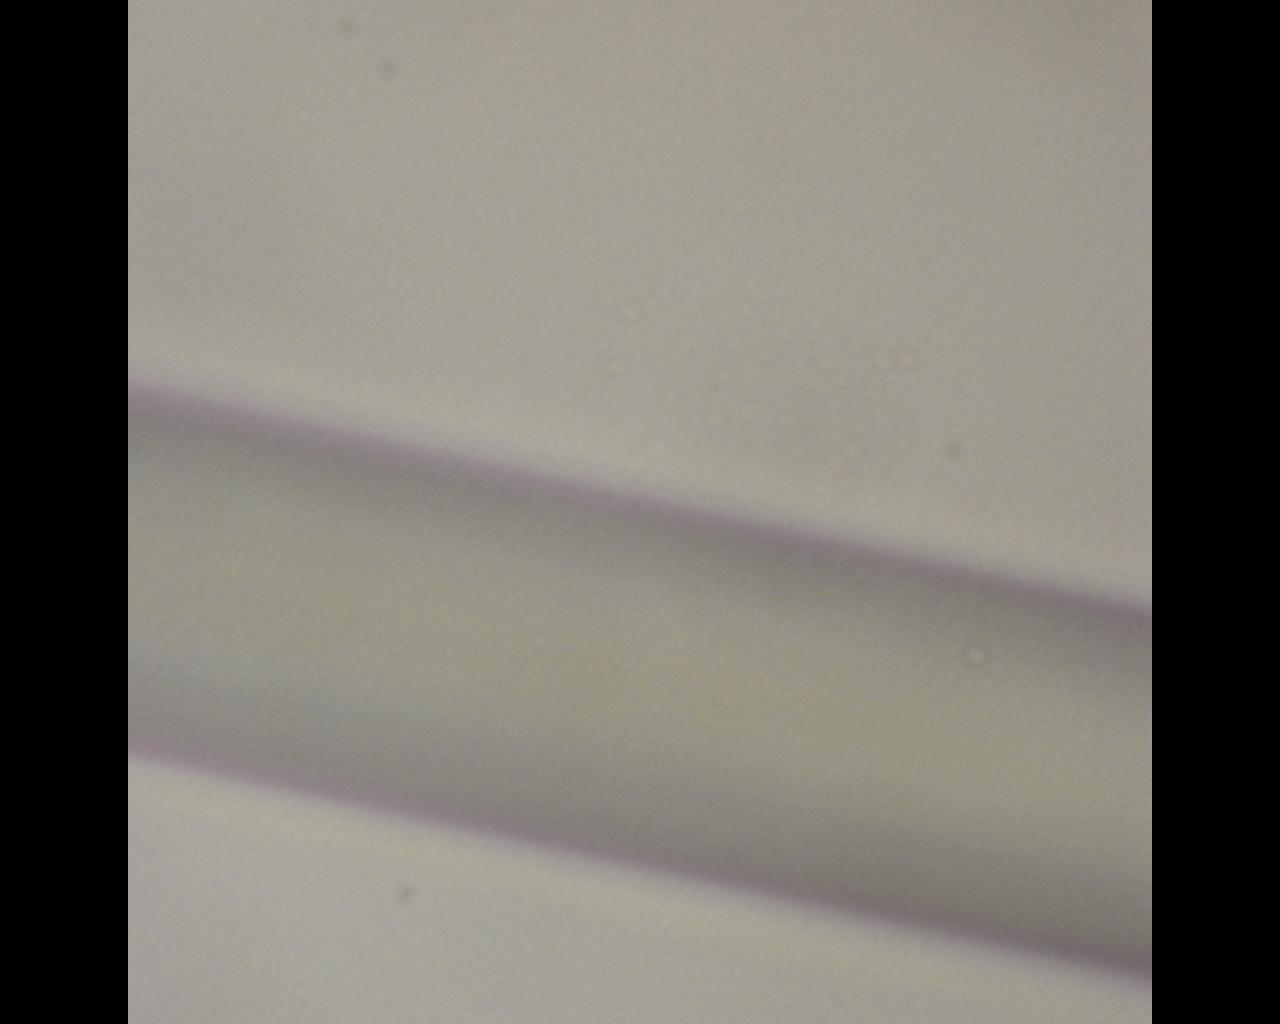fiber: (27, 638, 639, 1000), (642, 193, 1280, 450)
